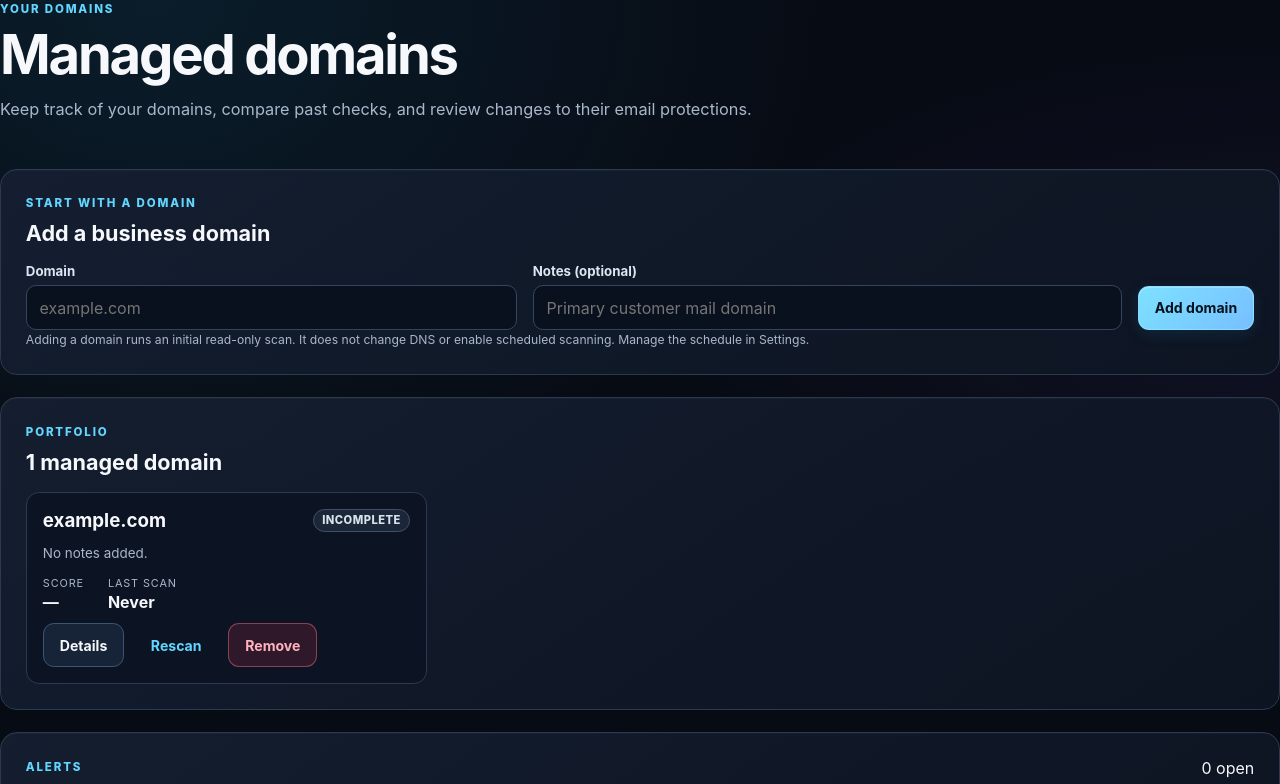
Test: Managed domain incomplete scans › labels incomplete scans and rescan notices without trusting provisional grades
The width and height of the screenshot is (1280, 784).
Expected: the text "Incomplete" is shown, [313,509,410,532]
Expected: the heading "1 managed domain" is shown, [26,449,222,476]
Step 1. Click the button "Rescan" → (176, 645), box [134,623,219,667]
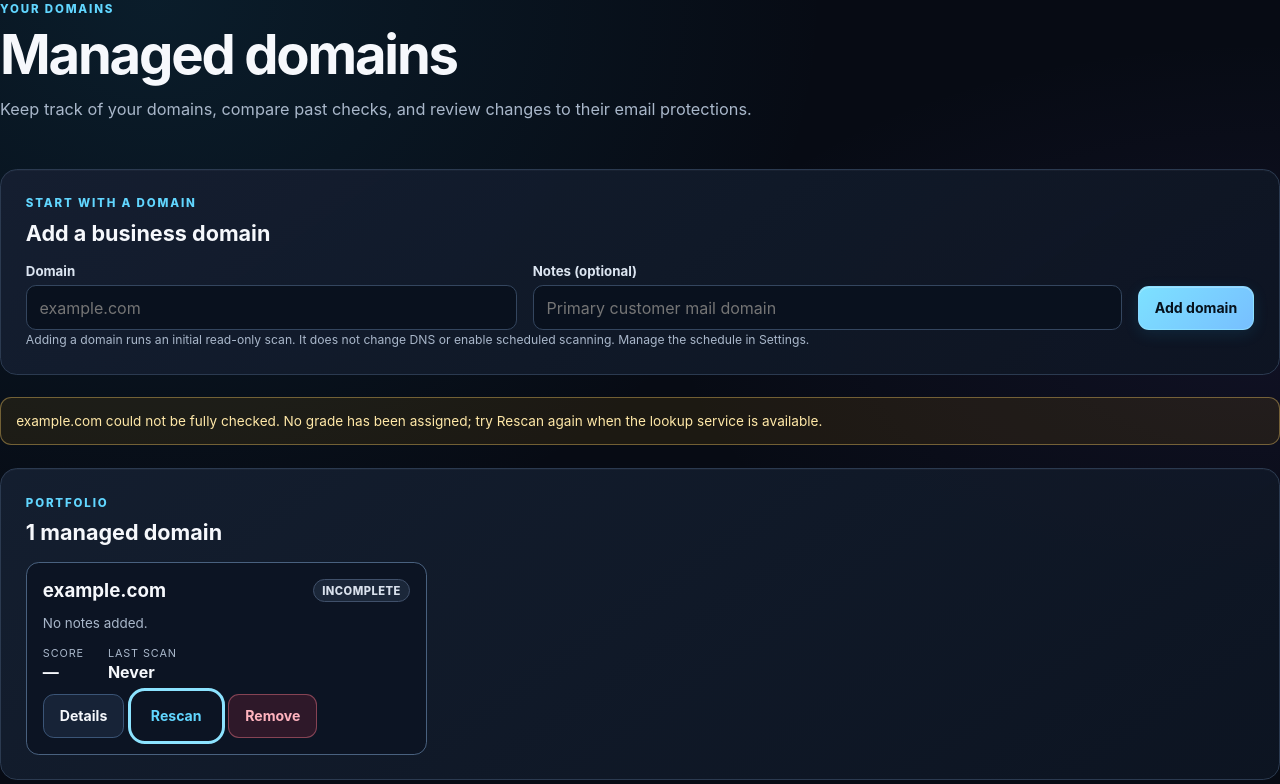
Expected: the message shows "No grade has been assigned", [16,413,822,429]
